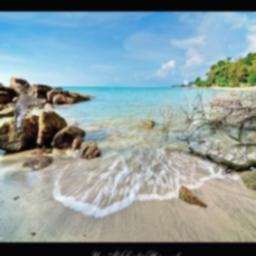Sparrow: (15, 87, 47, 133)
